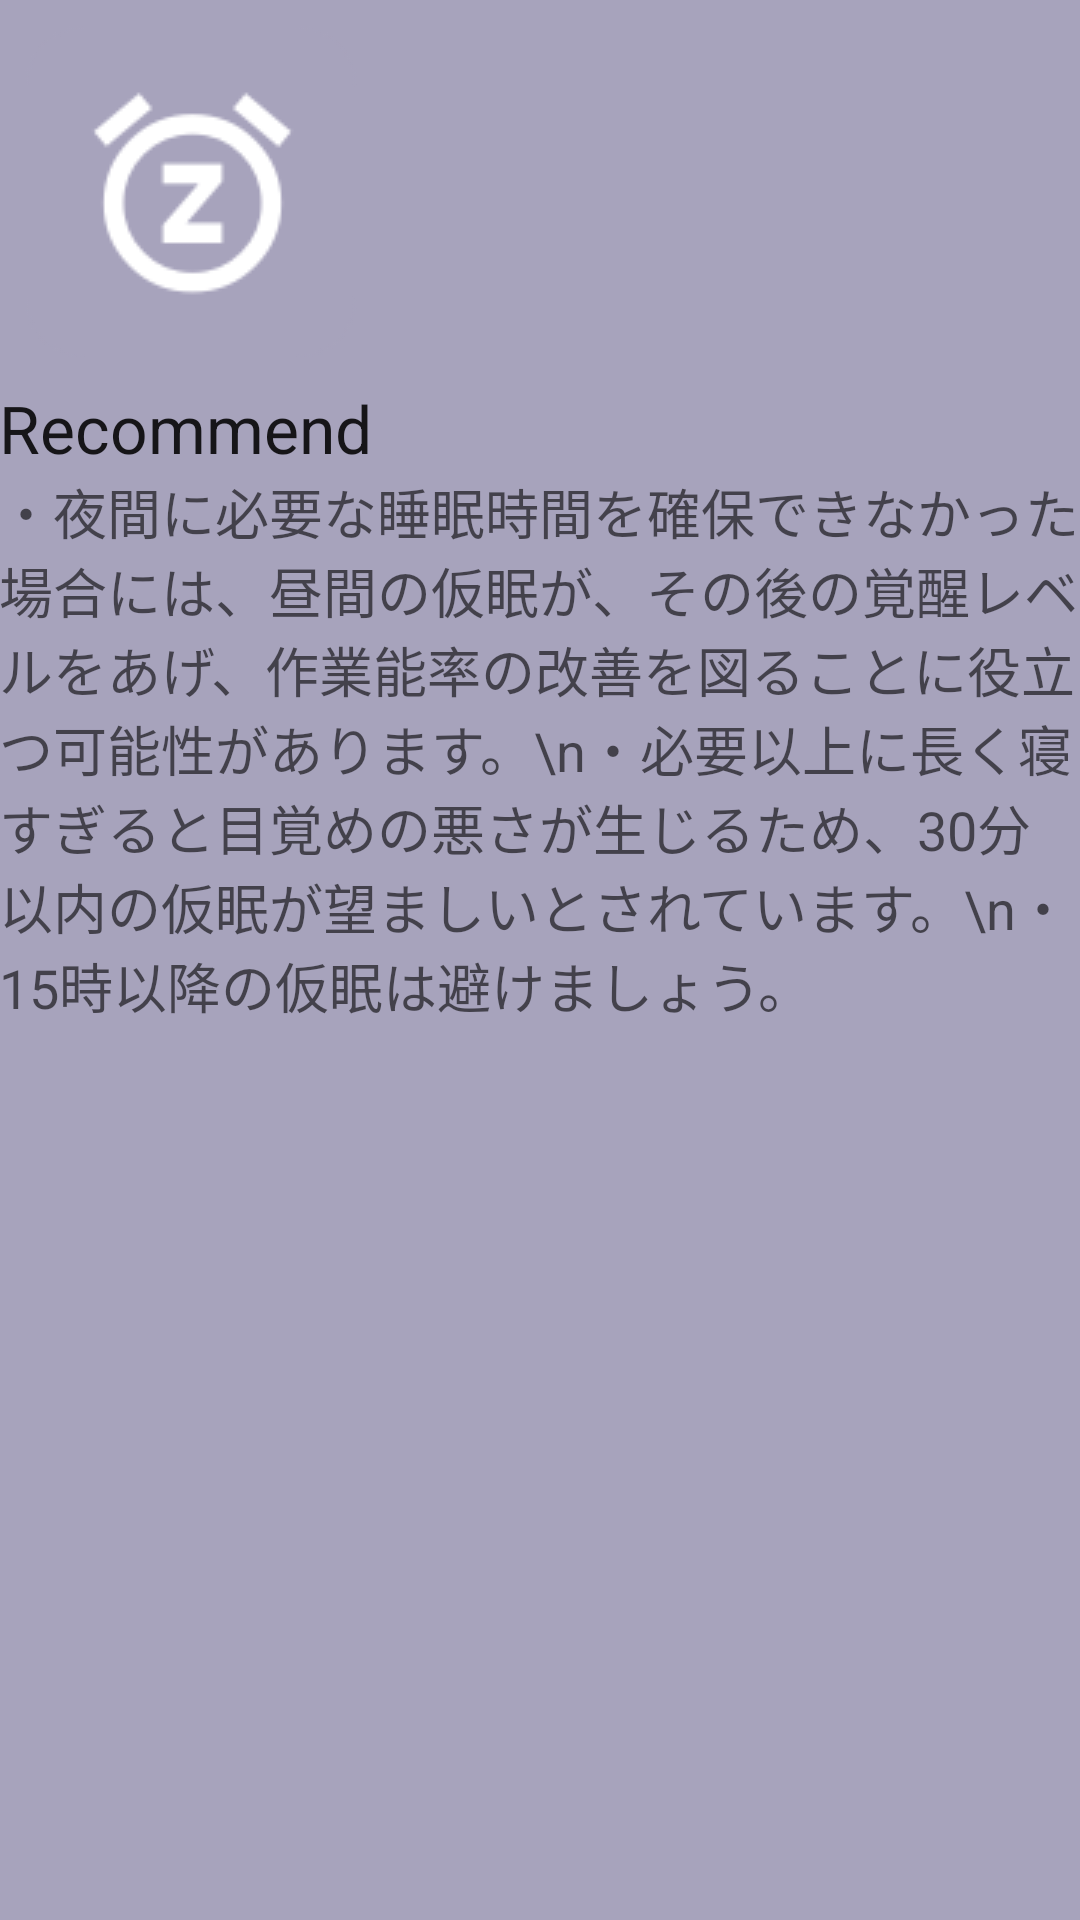

Locate icon controls on the screen. Image size 1080*1920, boxes as (x1, y1, x2, y2).
nap top: (94, 93, 291, 293)
